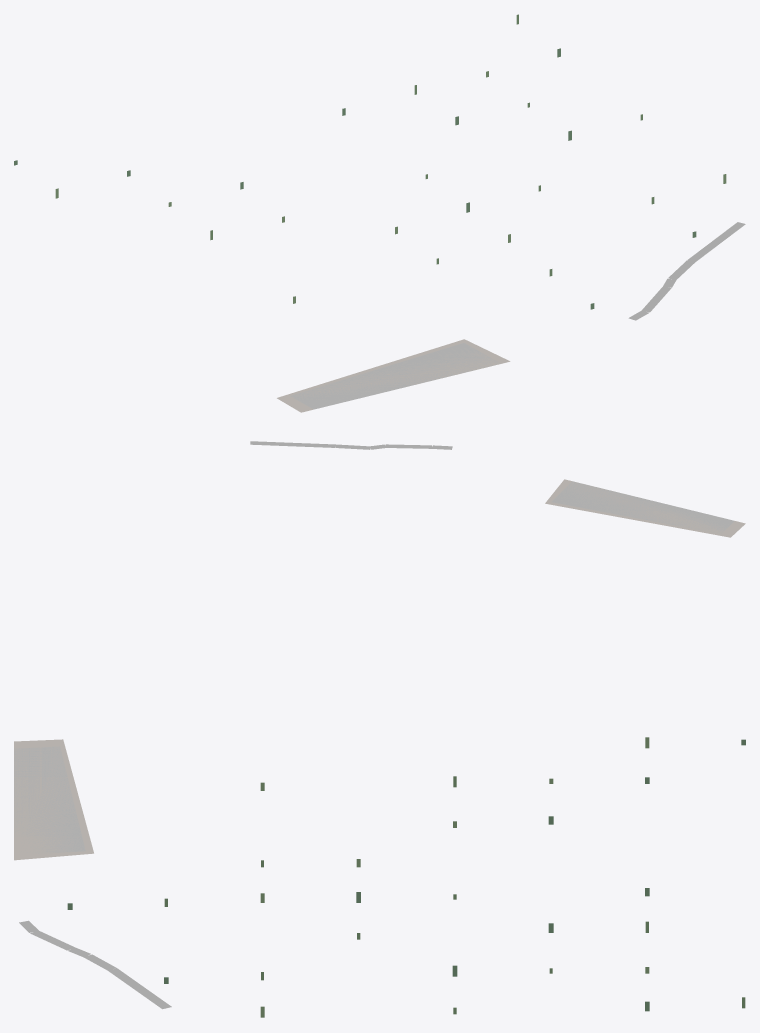
The picture shows the model from 3 angles, top to bottom: view 1: azimuth 30°, elevation 25°; view 2: azimuth 150°, elevation 25°; view 3: azimuth 270°, elevation 25°; orthographic projection. The views are drawn at different scales.
Bounding box in the file's own units: 448 × 30.97 × 456.
